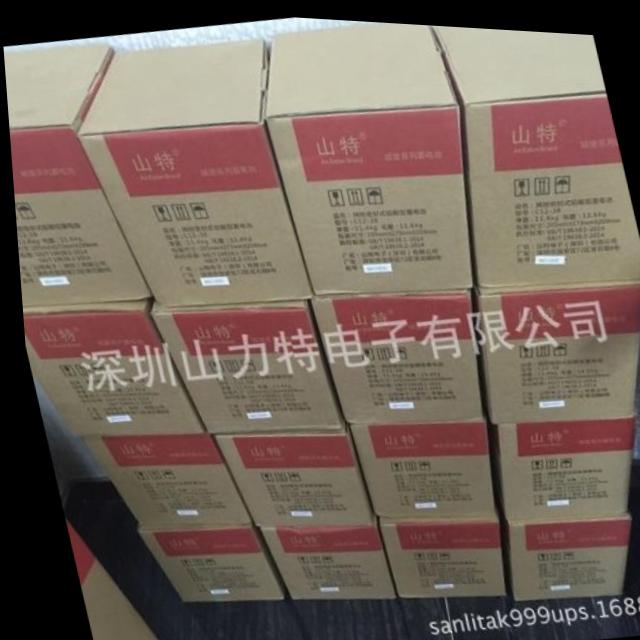box: (76, 36, 309, 299), (264, 19, 467, 290), (433, 20, 640, 283), (3, 42, 146, 304), (148, 293, 338, 432), (465, 275, 640, 419), (18, 299, 199, 437), (308, 282, 482, 420), (203, 426, 367, 523), (73, 431, 244, 524), (482, 412, 630, 516), (338, 419, 489, 515), (131, 523, 284, 601), (492, 506, 624, 593), (369, 512, 503, 594), (246, 520, 392, 595)
